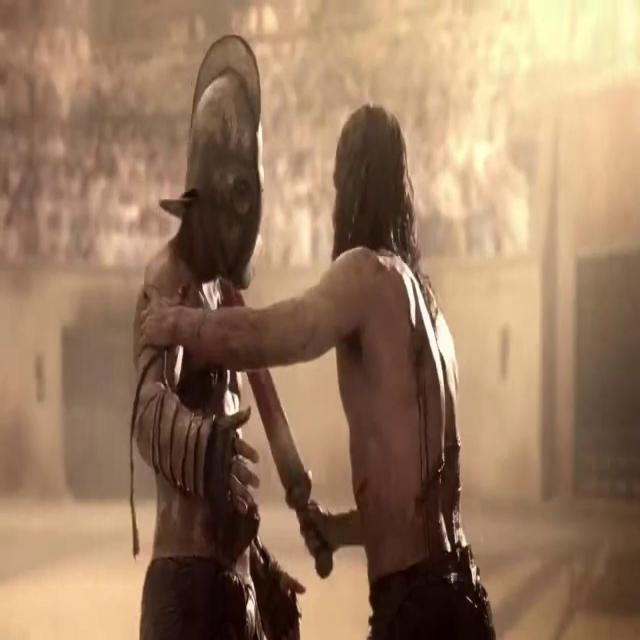flood: (403, 316, 475, 576)
